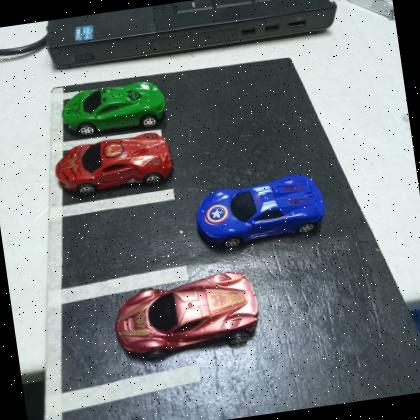Car: (107, 266, 265, 368), (192, 169, 330, 254), (51, 127, 177, 200), (58, 76, 170, 140)
